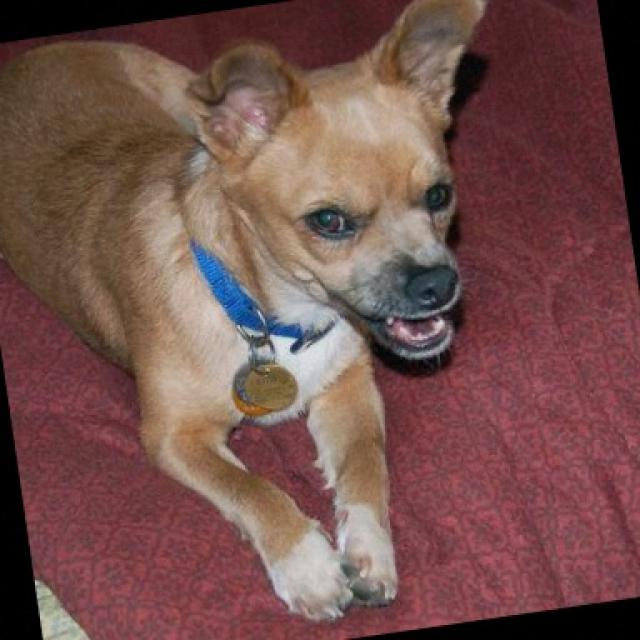angry: (181, 0, 514, 386)
